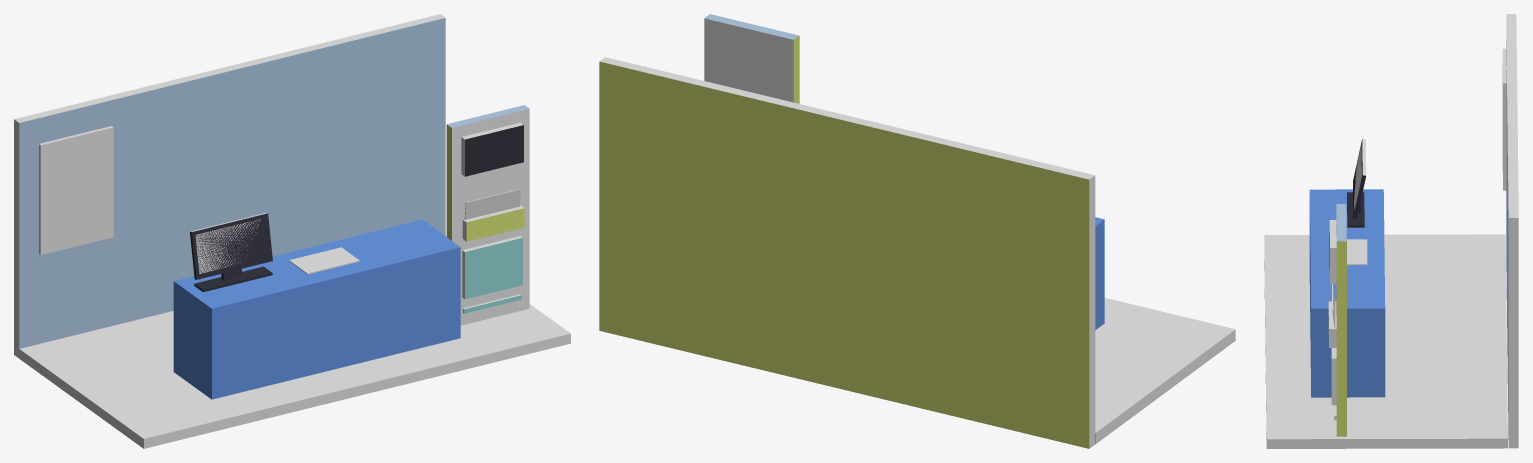
The model's file is ASSET-TEMPLATE.fbx.
The picture shows the model from 3 angles, left to right: view 1: azimuth 30°, elevation 25°; view 2: azimuth 150°, elevation 25°; view 3: azimuth 270°, elevation 25°; orthographic projection. The views are drawn at different scales.
Visible parts, largest first — view 1: Cube; view 2: Cube; view 3: Cube.
Part boxes in pixels (box(x1,y1,x2,y2)): Cube: box(14, 14, 570, 448); Cube: box(599, 14, 1235, 448); Cube: box(1264, 14, 1518, 448).
Size of the model in its own units: 491 by 257 by 258.
